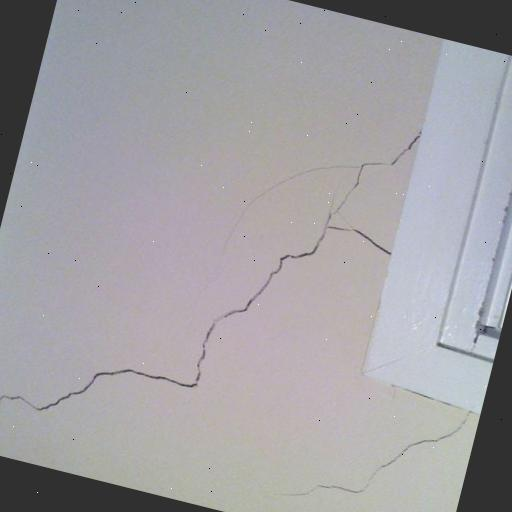spalling: (0, 124, 423, 417)
